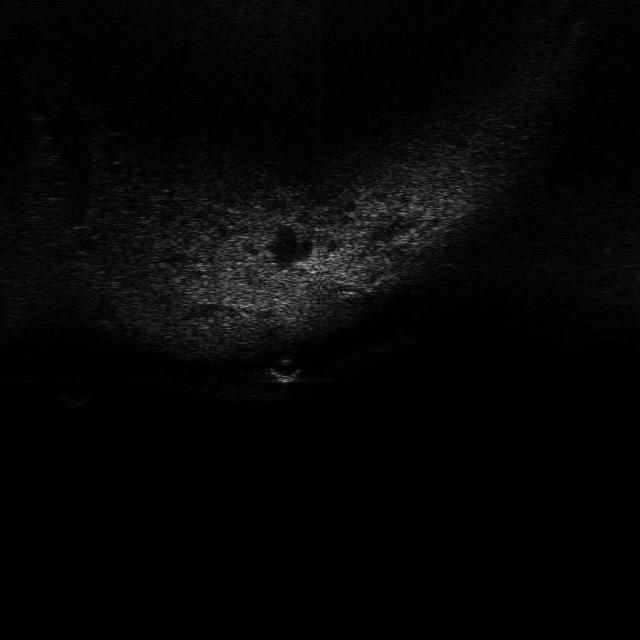ball: (262, 352, 306, 385)
cube: (53, 388, 93, 414)
